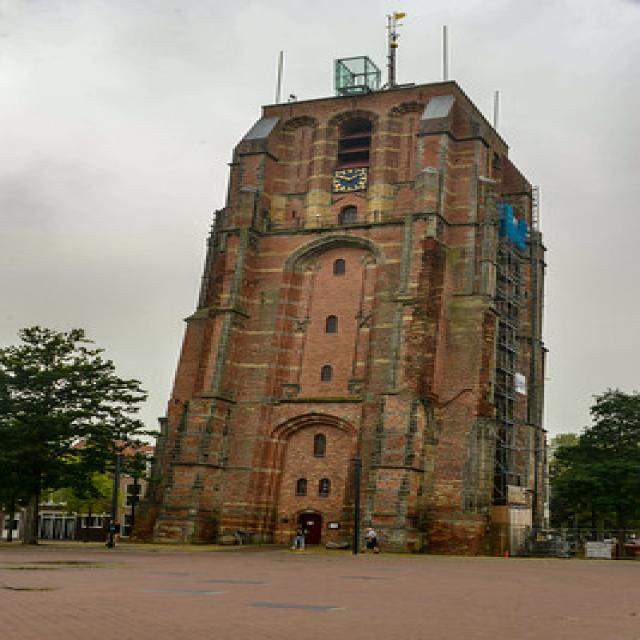building: (113, 64, 551, 562)
